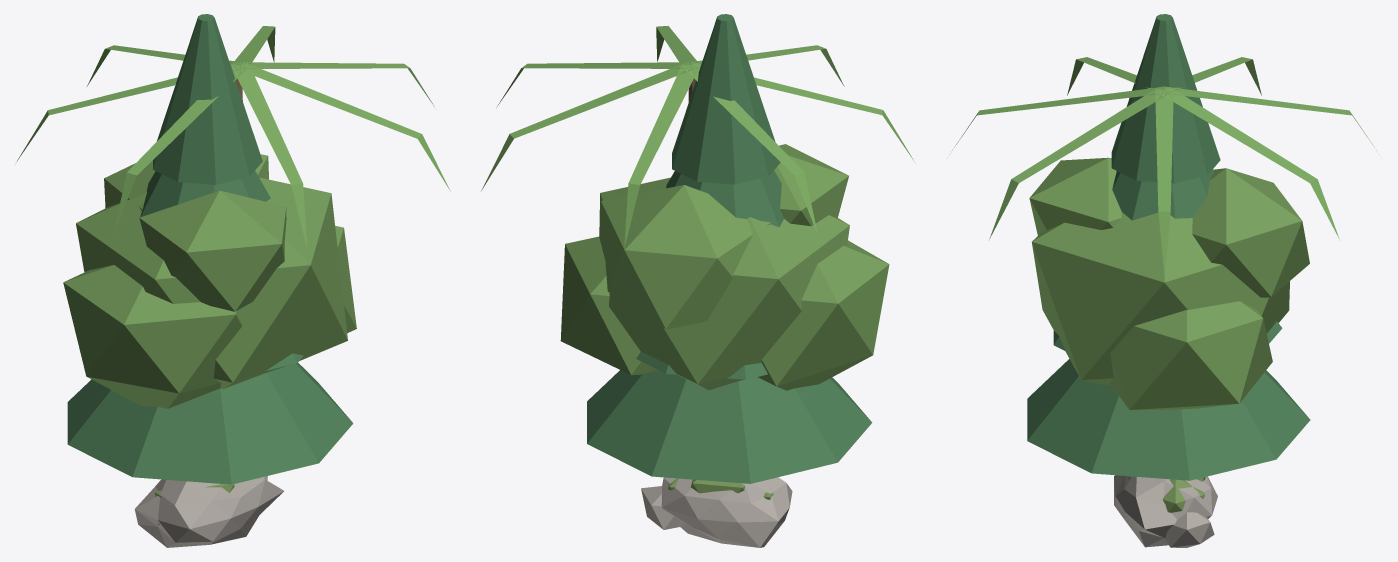
Rendered from nature.glb.
The picture shows the model from 3 angles, left to right: view 1: azimuth 30°, elevation 25°; view 2: azimuth 150°, elevation 25°; view 3: azimuth 270°, elevation 25°; orthographic projection.
Visible parts, largest first — view 1: TreeOak, TreePine, TreePalm, Rock; view 2: TreeOak, TreePine, TreePalm, Rock, Bush; view 3: TreeOak, TreePine, TreePalm, Rock, Bush.
Boxes of the visible parts, box(x1,y1,x2,y2) form: TreeOak: box(63, 154, 356, 408); TreePine: box(67, 14, 353, 484); TreePalm: box(16, 26, 450, 248); Rock: box(134, 476, 283, 547); TreeOak: box(560, 144, 889, 390); TreePine: box(587, 14, 872, 483); TreePalm: box(481, 26, 914, 247); Rock: box(641, 477, 792, 547); Bush: box(668, 478, 784, 515); TreeOak: box(1029, 157, 1309, 409); TreePine: box(1027, 14, 1310, 480); TreePalm: box(952, 57, 1376, 276); Rock: box(1114, 475, 1217, 547); Bush: box(1128, 476, 1205, 512).
Bounding box in the file's own units: 7.6 × 10.14 × 7.8.
